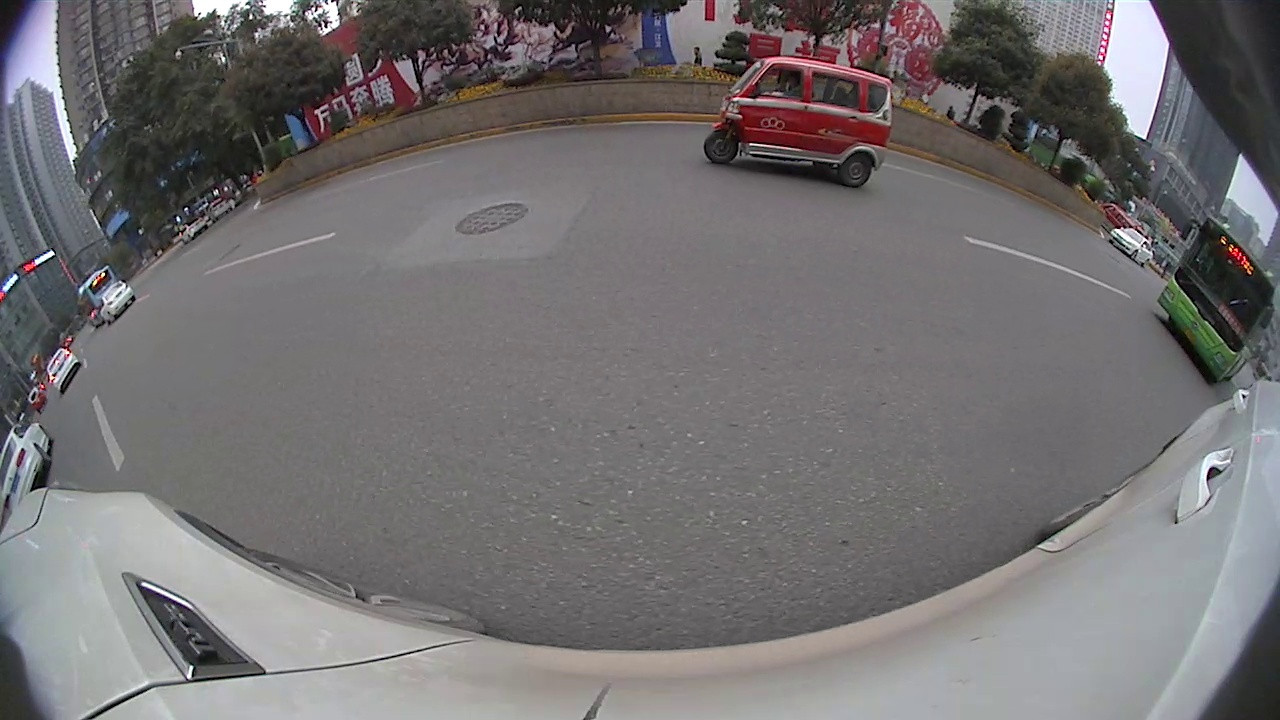bus: (1155, 214, 1278, 385), (75, 263, 120, 325)
car: (1, 420, 53, 508), (1104, 225, 1154, 266), (45, 347, 85, 391), (98, 280, 137, 321)
front: (699, 128, 741, 166)
rear: (837, 155, 874, 190)
rider: (700, 54, 896, 189), (1098, 199, 1131, 230)
